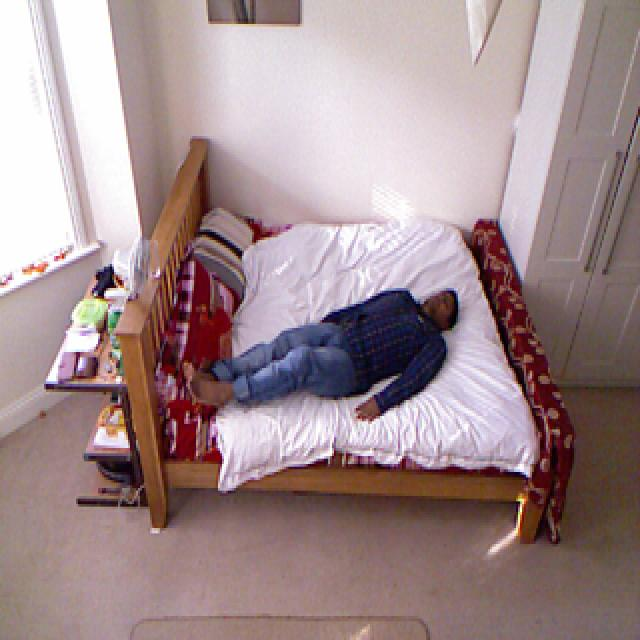lying: (182, 287, 458, 425)
